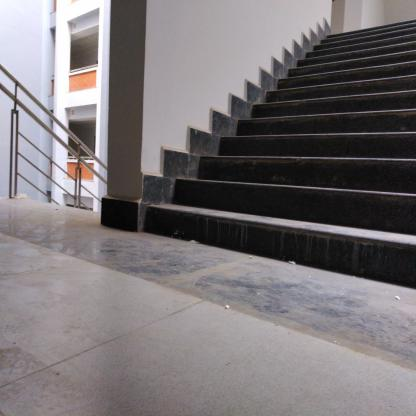stairs: (329, 34, 414, 295)
